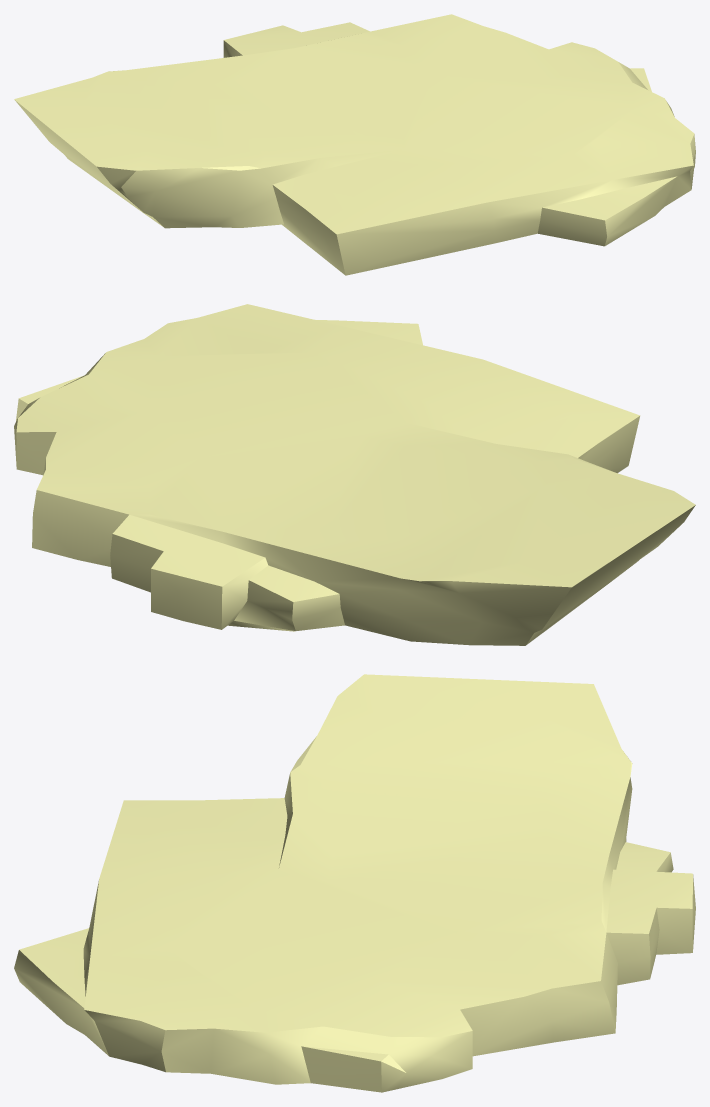
File: MangaKa Props - N_R_Veg_Rocks_41.glb
3 views of the same model, one above another, from view 1: azimuth 30°, elevation 25°; view 2: azimuth 150°, elevation 25°; view 3: azimuth 270°, elevation 25° (orthographic). The views are drawn at different scales.
Visible parts, largest first — view 1: N_R_Veg_Rocks_41_blueScreen; view 2: N_R_Veg_Rocks_41_blueScreen; view 3: N_R_Veg_Rocks_41_blueScreen.
Part boxes in pixels (left/top/right/bottom): N_R_Veg_Rocks_41_blueScreen: left=14, top=14, right=695, bottom=275; N_R_Veg_Rocks_41_blueScreen: left=14, top=304, right=695, bottom=645; N_R_Veg_Rocks_41_blueScreen: left=14, top=674, right=695, bottom=1092.
Size of the model in its own units: 42.89 by 5.61 by 36.86.
